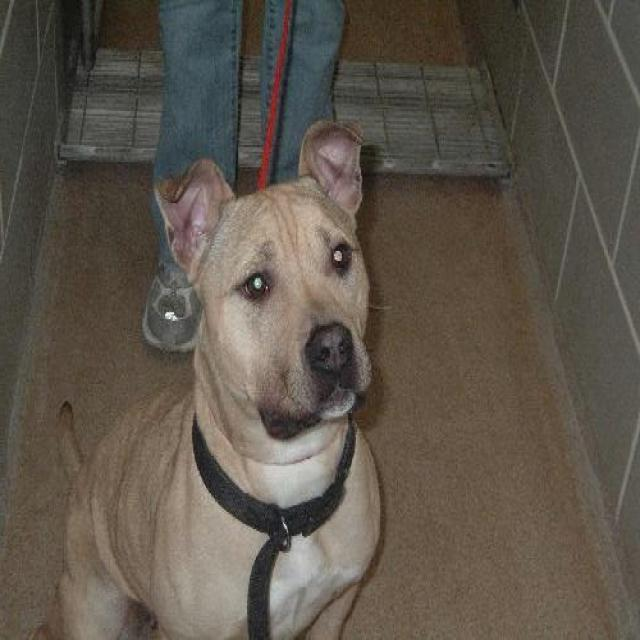staffordshire_bullterrier: (52, 112, 386, 638)
